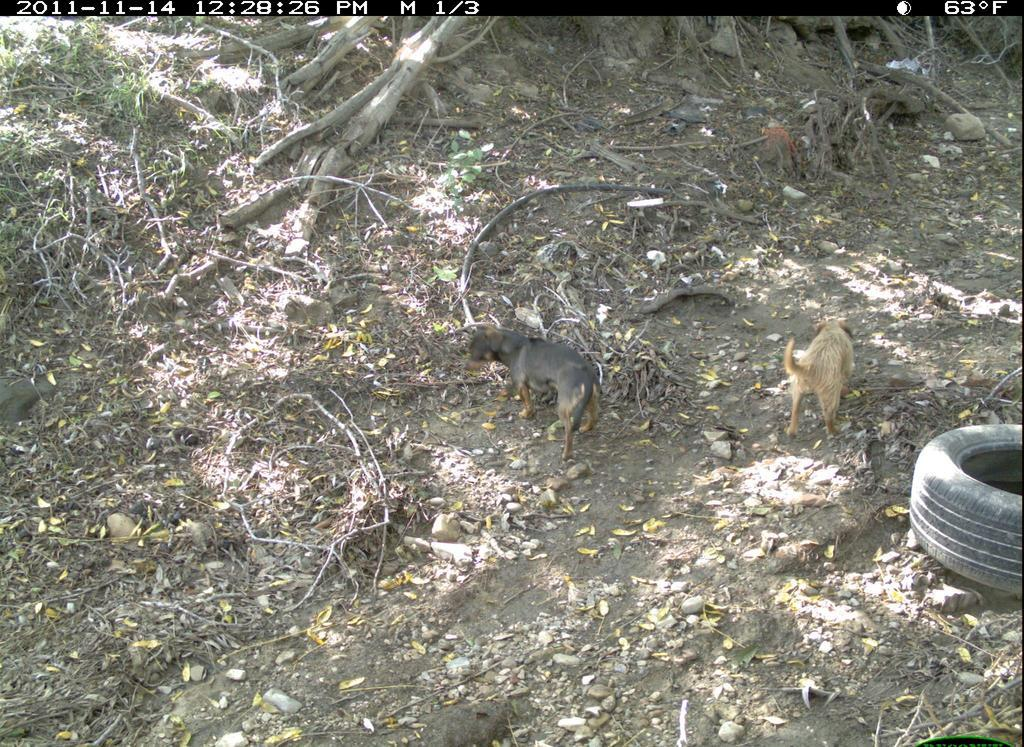dog: (457, 309, 620, 469), (771, 304, 868, 451)
